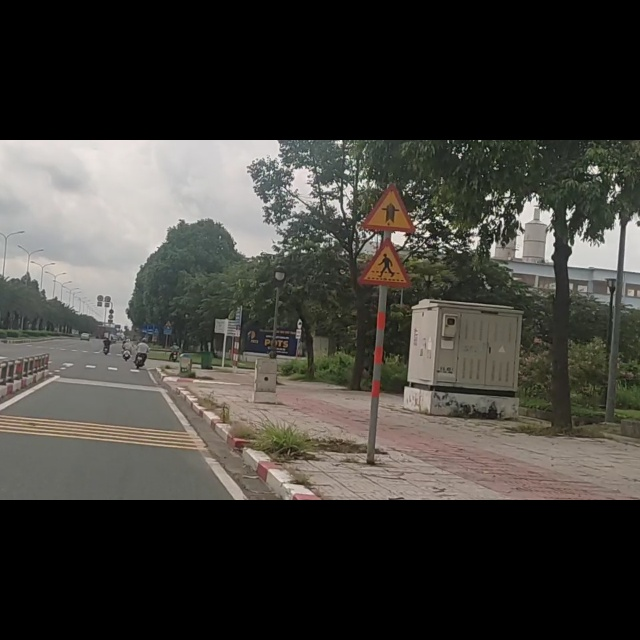bien_nguy_hiem: (361, 73, 417, 166), (357, 173, 411, 262)
